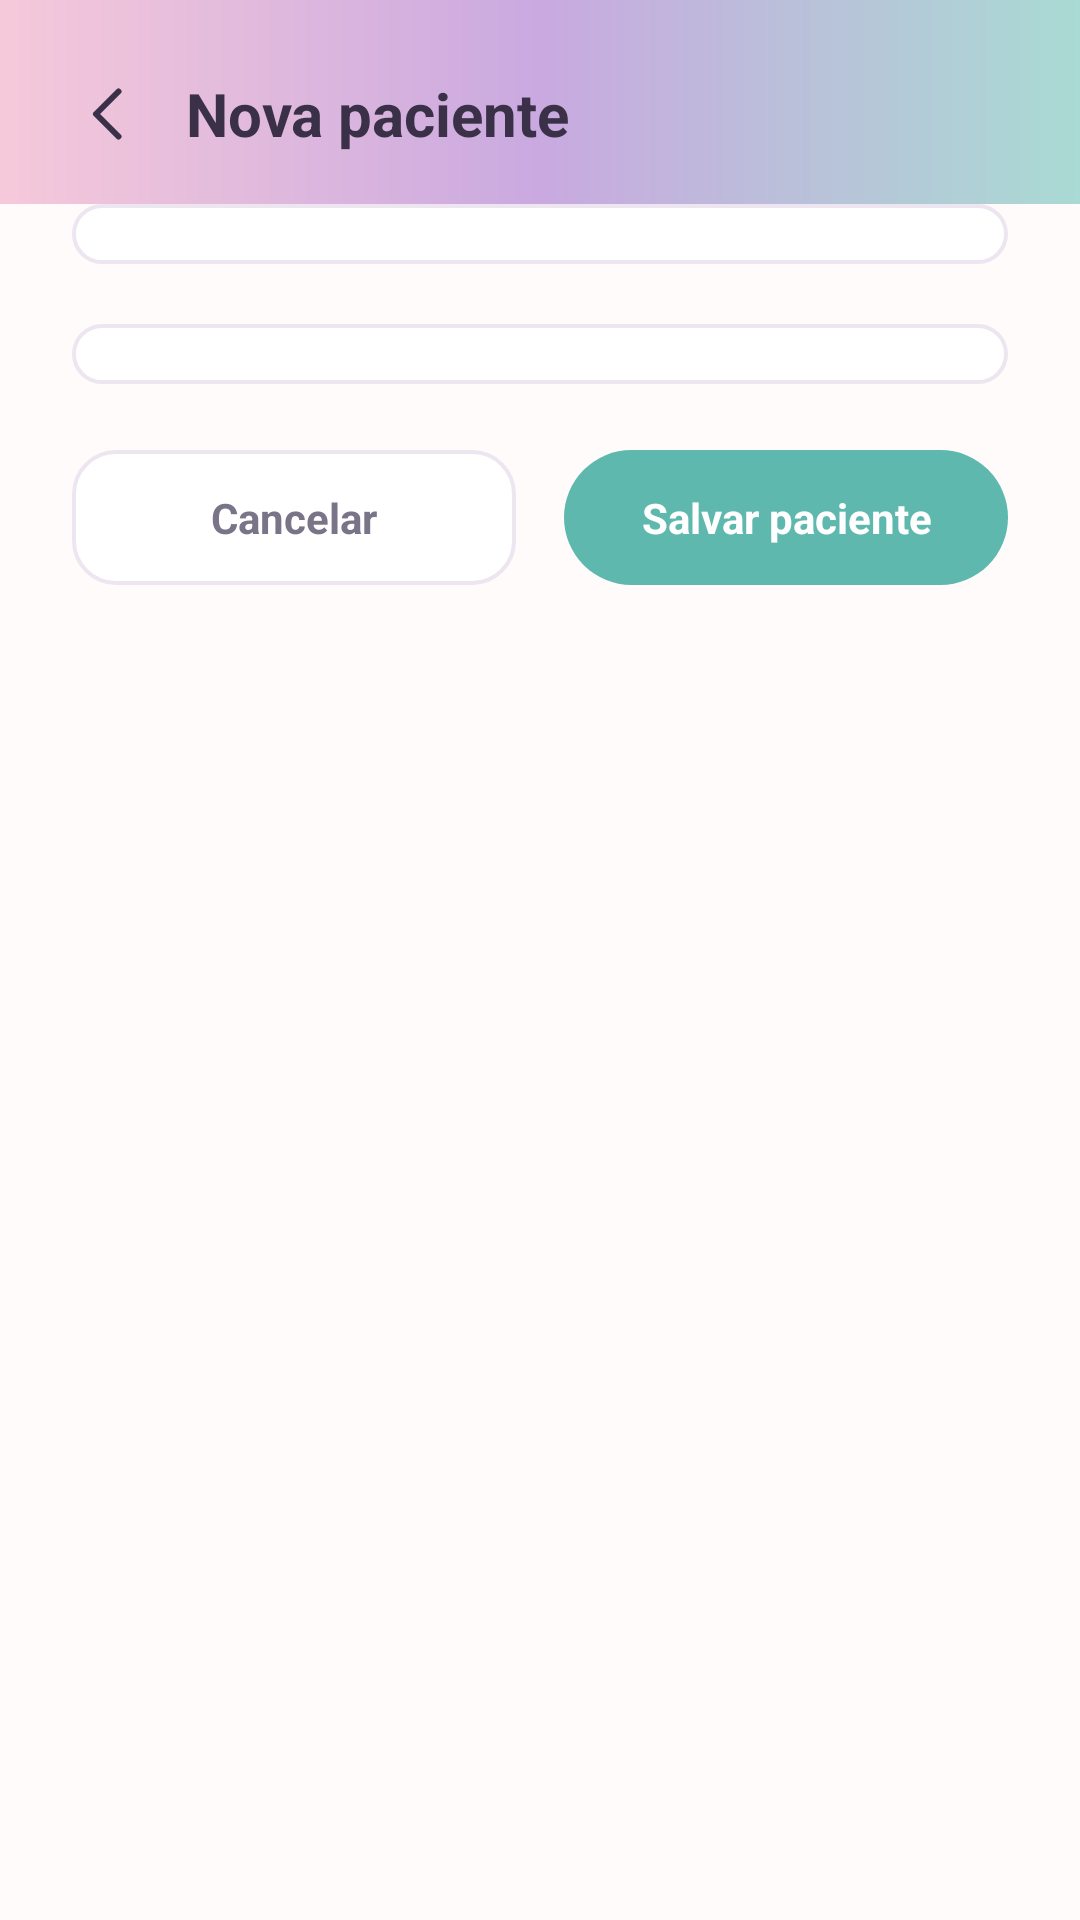

Locate icon controls on the screen. Image size 1080px x 1920px, boxes as (left=x1, top=y1, right=x2, bottom=y2).
back: (left=93, top=88, right=122, bottom=140)
